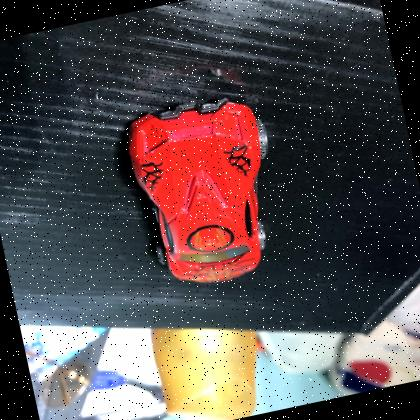Car: (126, 100, 264, 282)
